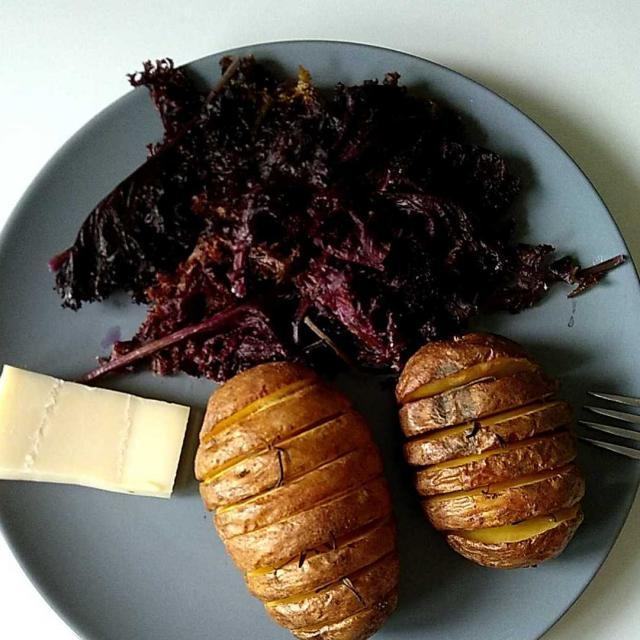cabbage: (63, 54, 594, 387)
cheese: (4, 363, 210, 514)
potatoes: (175, 336, 591, 626)
